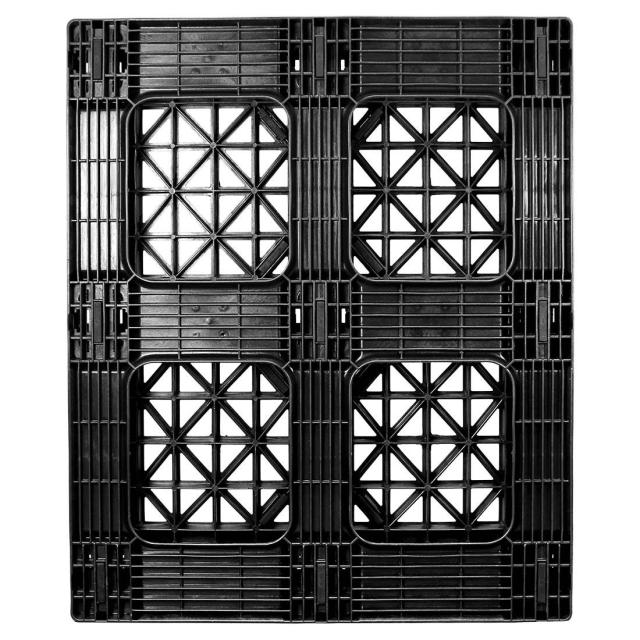non-igps: (51, 5, 587, 630)
